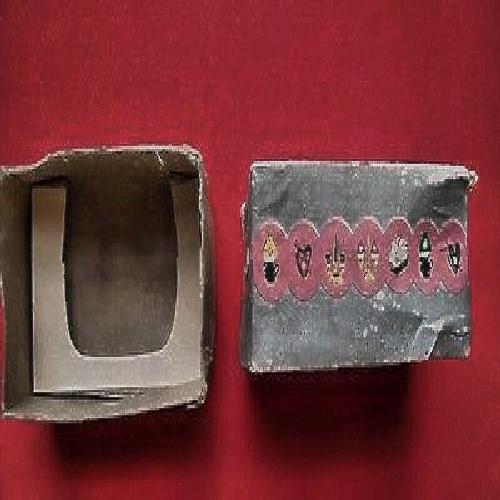toaster: (246, 168, 482, 379), (27, 152, 214, 415)
